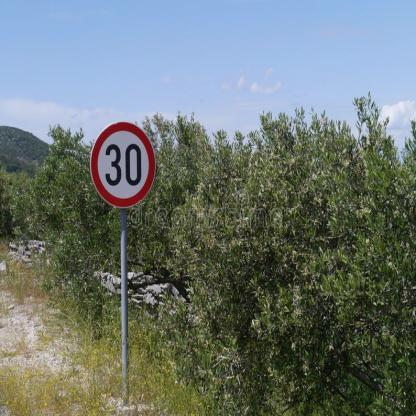road_sign: (91, 122, 157, 211)
